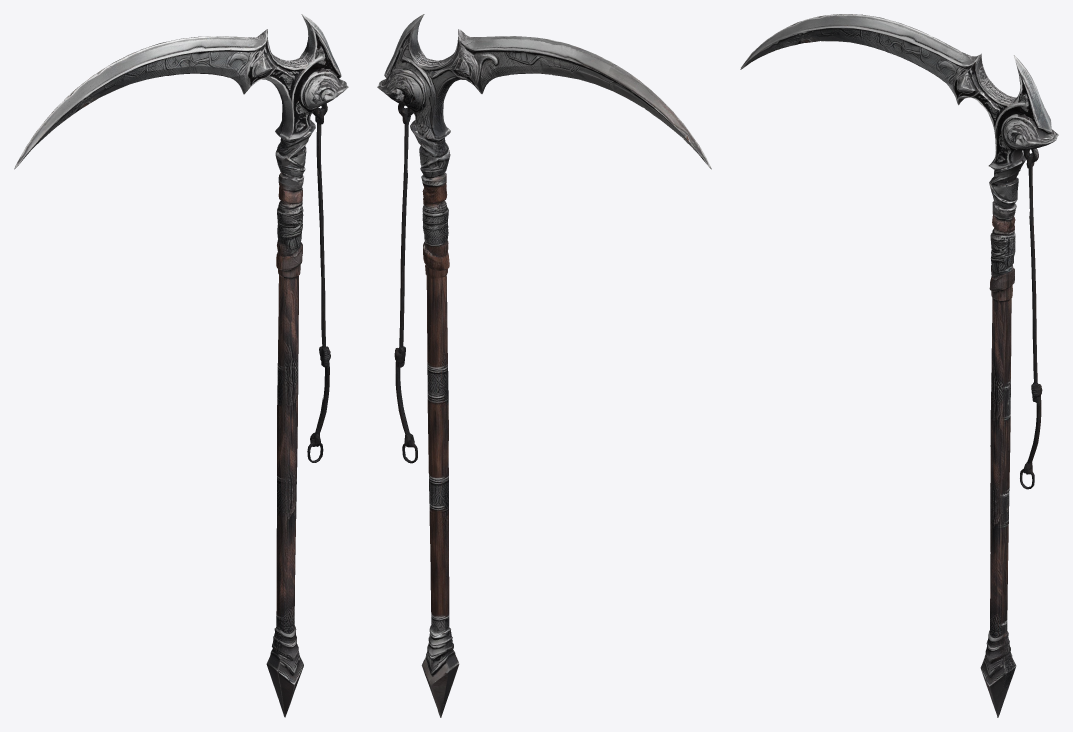
File: scythe_1.glb
3 renders of one model, left to right at view 1: azimuth 30°, elevation 25°; view 2: azimuth 150°, elevation 25°; view 3: azimuth 330°, elevation 25°, orthographic. The views are drawn at different scales.
Parts seen in each view (by area): view 1: scythe; view 2: scythe; view 3: scythe.
Part boxes in pixels (left/top/right/bottom): scythe: left=14, top=14, right=348, bottom=717; scythe: left=377, top=14, right=711, bottom=717; scythe: left=740, top=14, right=1058, bottom=717.
Bounding box in the file's own units: 0.935 × 1.9 × 0.1111.
1 material, 1 textured.
